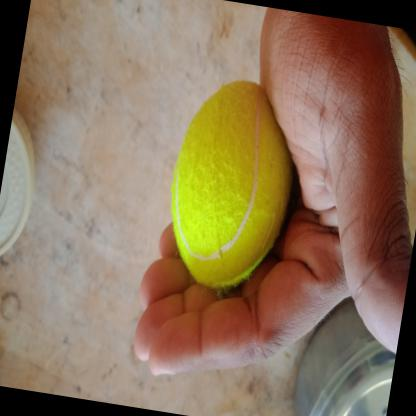Tennis: (154, 70, 309, 302)
